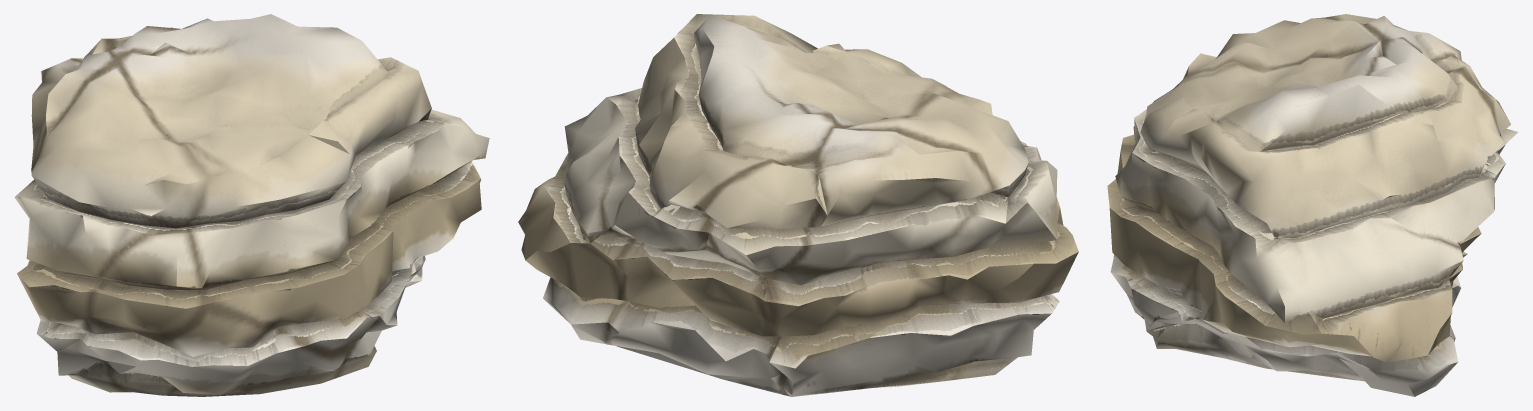
Rendered from piedra_caliza.fbx.
3 renders of one model, left to right at view 1: azimuth 30°, elevation 25°; view 2: azimuth 150°, elevation 25°; view 3: azimuth 270°, elevation 25°, orthographic. The views are drawn at different scales.
Parts seen in each view (by area): view 1: piedra_caliza; view 2: piedra_caliza; view 3: piedra_caliza.
Boxes of the visible parts, left/top/right/bottom form: piedra_caliza: left=14, top=14, right=489, bottom=396; piedra_caliza: left=518, top=14, right=1078, bottom=396; piedra_caliza: left=1107, top=14, right=1517, bottom=396.
Size of the model in its own units: 2.73 by 1.52 by 2.09.
1 material, 1 textured.
